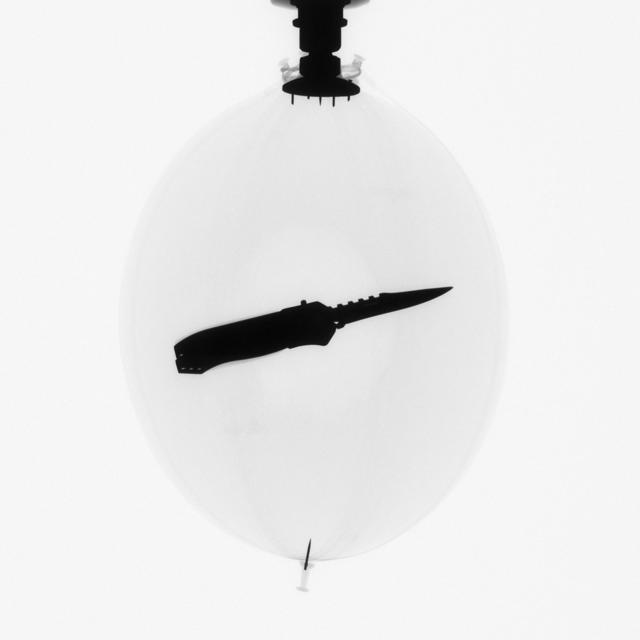knife: (157, 272, 460, 375)
